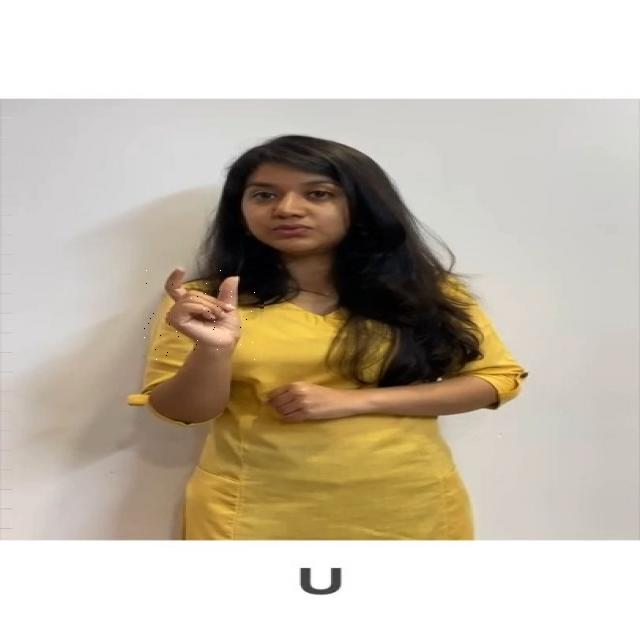U: (142, 262, 264, 360)
